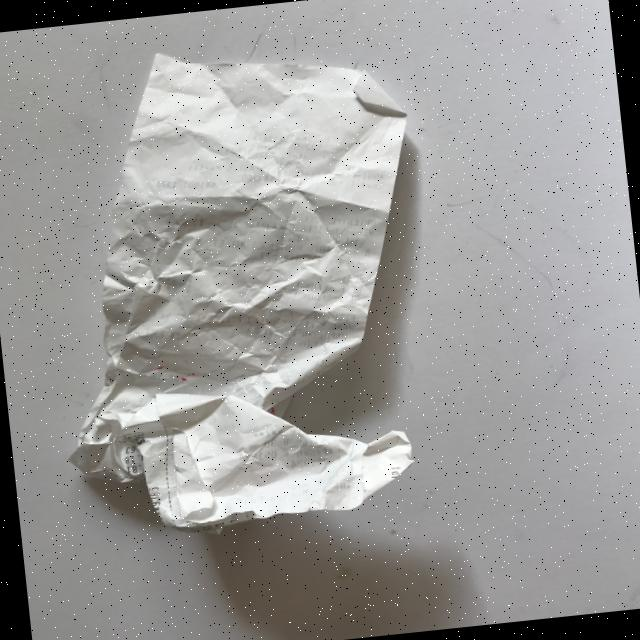paper: (28, 27, 448, 544)
